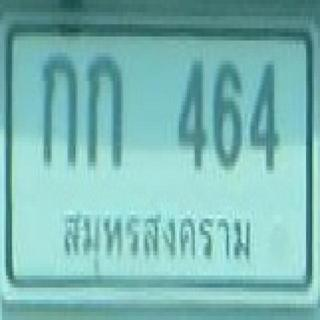A01: (35, 47, 82, 175), (84, 48, 126, 173)
N04: (248, 54, 288, 178), (169, 49, 208, 173)
N06: (209, 49, 248, 176)
P59: (53, 200, 255, 273)
